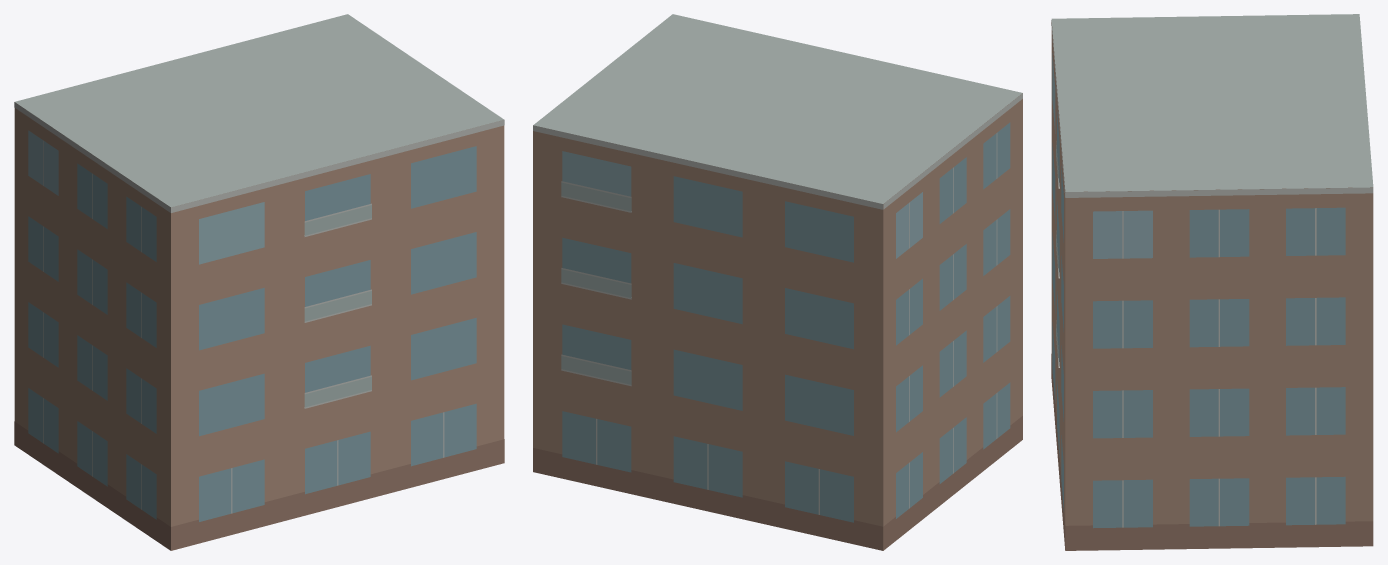
File: survey-upis-32494890.glb
3 renders of one model, left to right at view 1: azimuth 30°, elevation 25°; view 2: azimuth 150°, elevation 25°; view 3: azimuth 270°, elevation 25°, orthographic. The views are drawn at different scales.
Visible parts, largest first — view 1: survey-upis-32494890.tmp; view 2: survey-upis-32494890.tmp; view 3: survey-upis-32494890.tmp.
Part boxes in pixels (x1,y1,x2,y2): survey-upis-32494890.tmp: [14, 14, 504, 550]; survey-upis-32494890.tmp: [533, 14, 1022, 550]; survey-upis-32494890.tmp: [1051, 14, 1373, 550].
Bounding box in the file's own units: 15.65 × 14.7 × 11.96.
